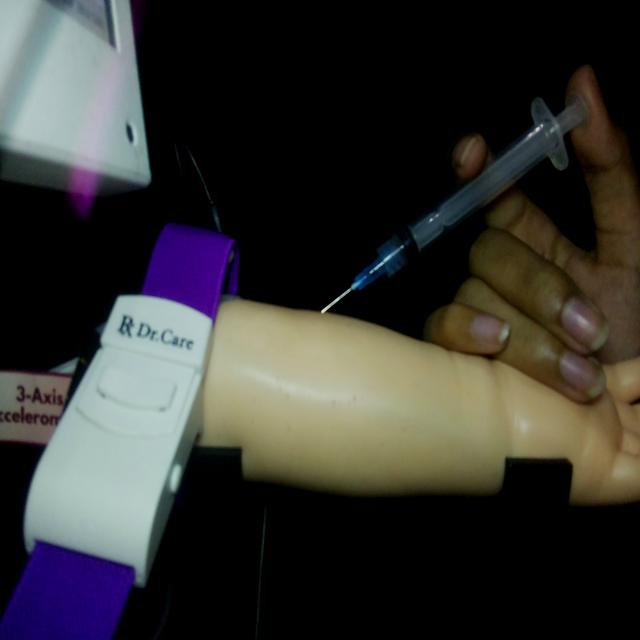28 degrees: (319, 88, 589, 316)
